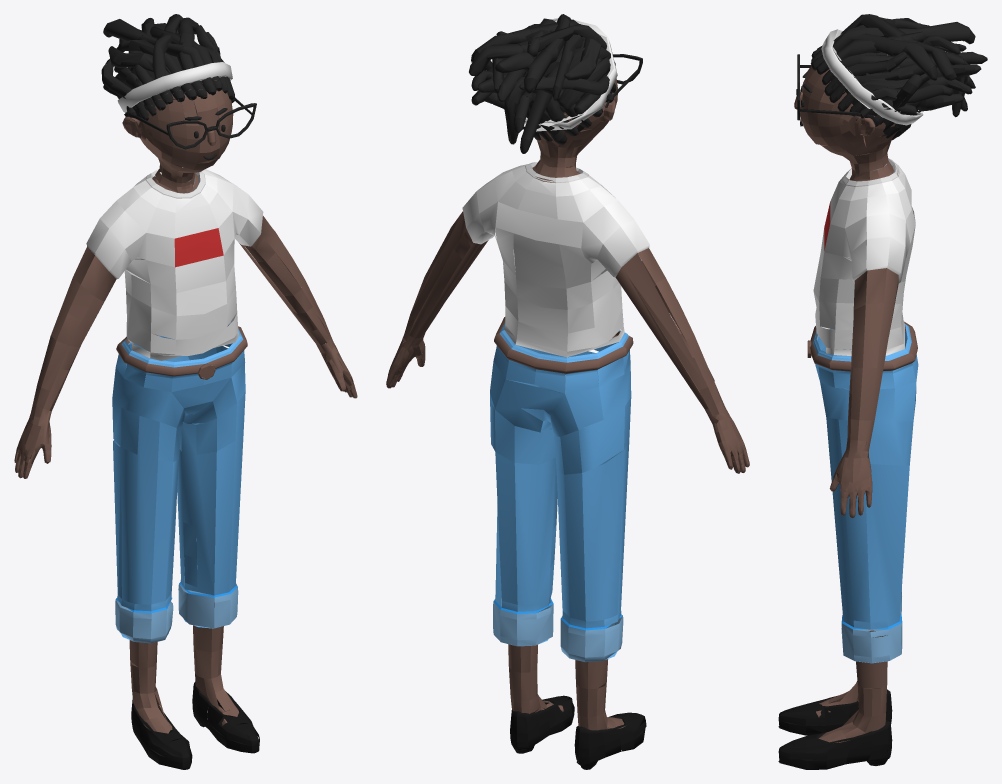
File: person_f_7.glb
3 views of the same model, side by side, from view 1: azimuth 30°, elevation 25°; view 2: azimuth 150°, elevation 25°; view 3: azimuth 270°, elevation 25° (orthographic). The views are drawn at different scales.
Visible parts, largest first — view 1: f_7; view 2: f_7; view 3: f_7.
Boxes of the visible parts, x1,y1,x2,y2 form: f_7: [14, 14, 357, 769]; f_7: [386, 14, 749, 769]; f_7: [778, 14, 987, 769].
Bounding box in the file's own units: 0.9546 × 1.9 × 0.4962.
1 material, 1 textured.
